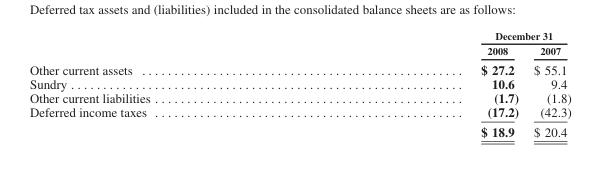table: (28, 29, 570, 138)
table column: (28, 29, 314, 138), (314, 29, 525, 138), (525, 29, 570, 138)
table column header: (28, 29, 570, 59)
table row: (28, 42, 570, 59), (28, 59, 570, 76), (28, 104, 570, 121), (28, 121, 570, 138), (28, 76, 570, 90), (28, 90, 570, 104), (28, 29, 570, 42)
table spanning cell: (314, 29, 570, 42)
